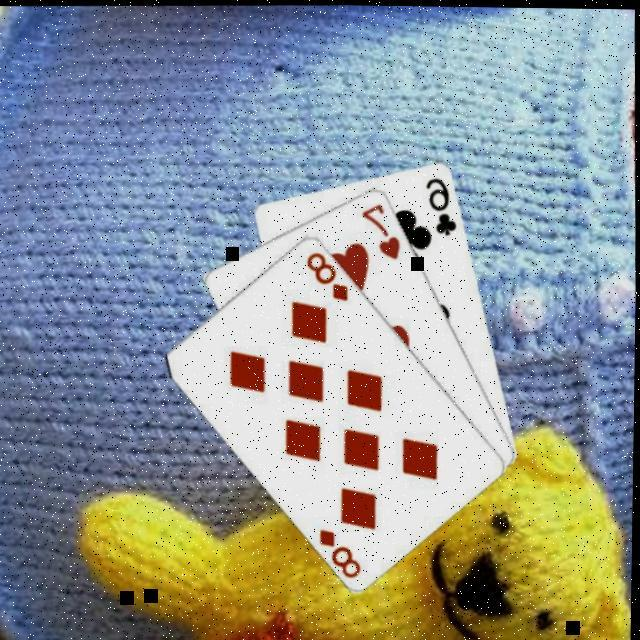6C: (423, 174, 461, 238)
7H: (359, 200, 405, 264)
8D: (304, 248, 354, 306), (316, 524, 366, 582)
